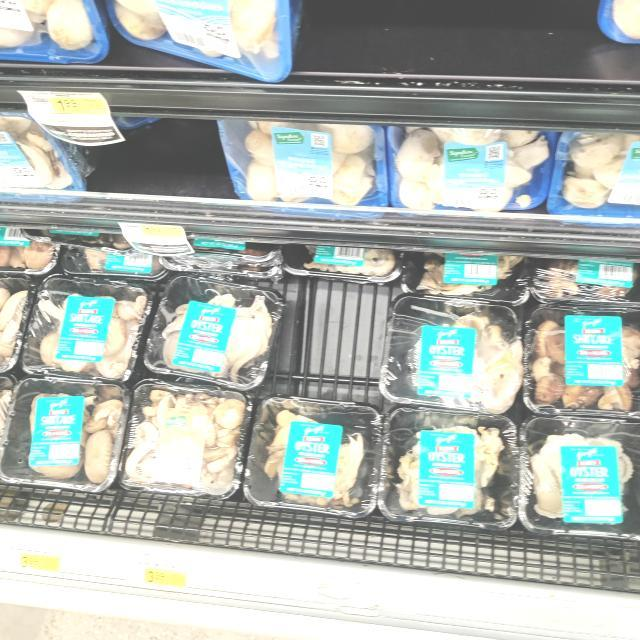Mushroom: (221, 98, 393, 218), (392, 116, 560, 232), (382, 403, 523, 532), (382, 293, 525, 416), (249, 395, 384, 521), (91, 0, 302, 76), (152, 274, 286, 386), (525, 417, 640, 542), (129, 384, 248, 501), (30, 274, 150, 380), (528, 303, 640, 414), (11, 380, 125, 486), (0, 108, 108, 192), (561, 124, 640, 229), (0, 0, 124, 62), (0, 280, 35, 366), (0, 369, 15, 475)
